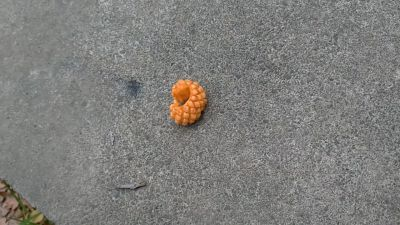eggs: (169, 78, 209, 127)
